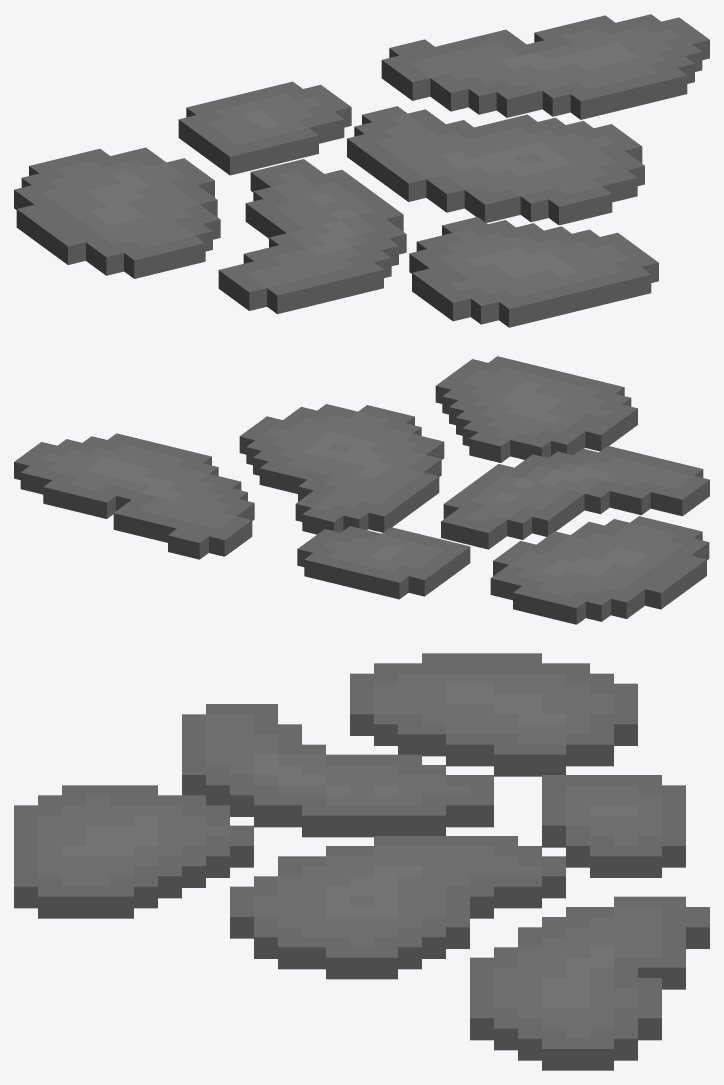
The model's file is Trail2.obj.
3 views of the same model, one above another, from view 1: azimuth 30°, elevation 25°; view 2: azimuth 150°, elevation 25°; view 3: azimuth 270°, elevation 25° (orthographic). The views are drawn at different scales.
Bounding box in the file's own units: 3.9 × 0.1 × 2.9.
1 material, 1 textured.
